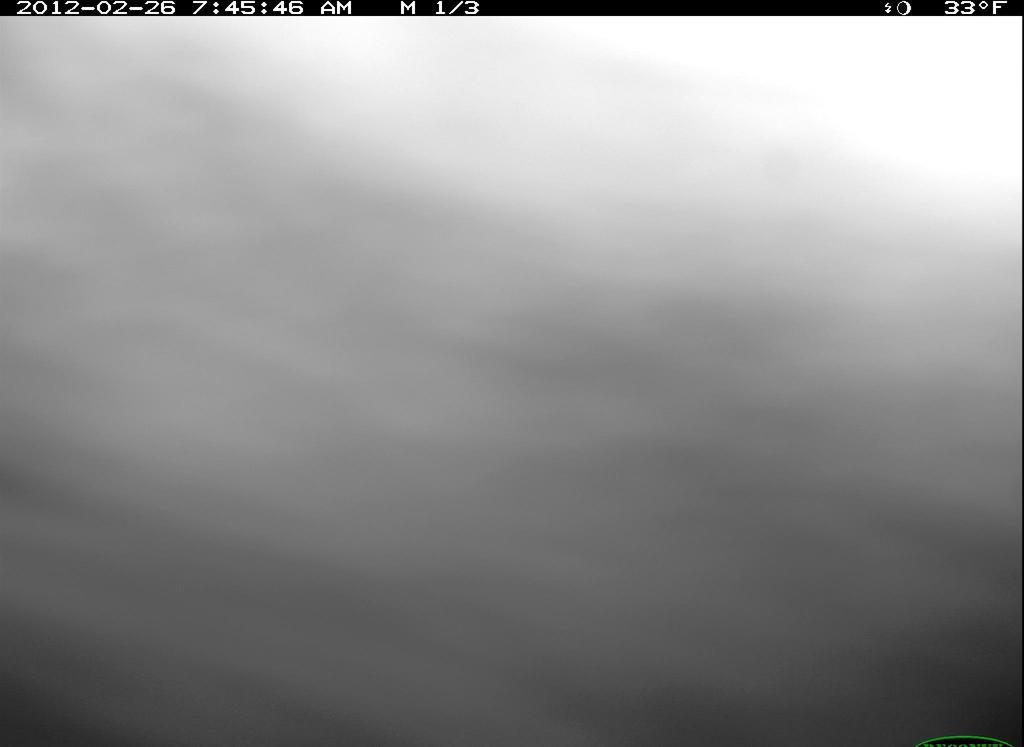coyote: (3, 17, 1024, 747)
